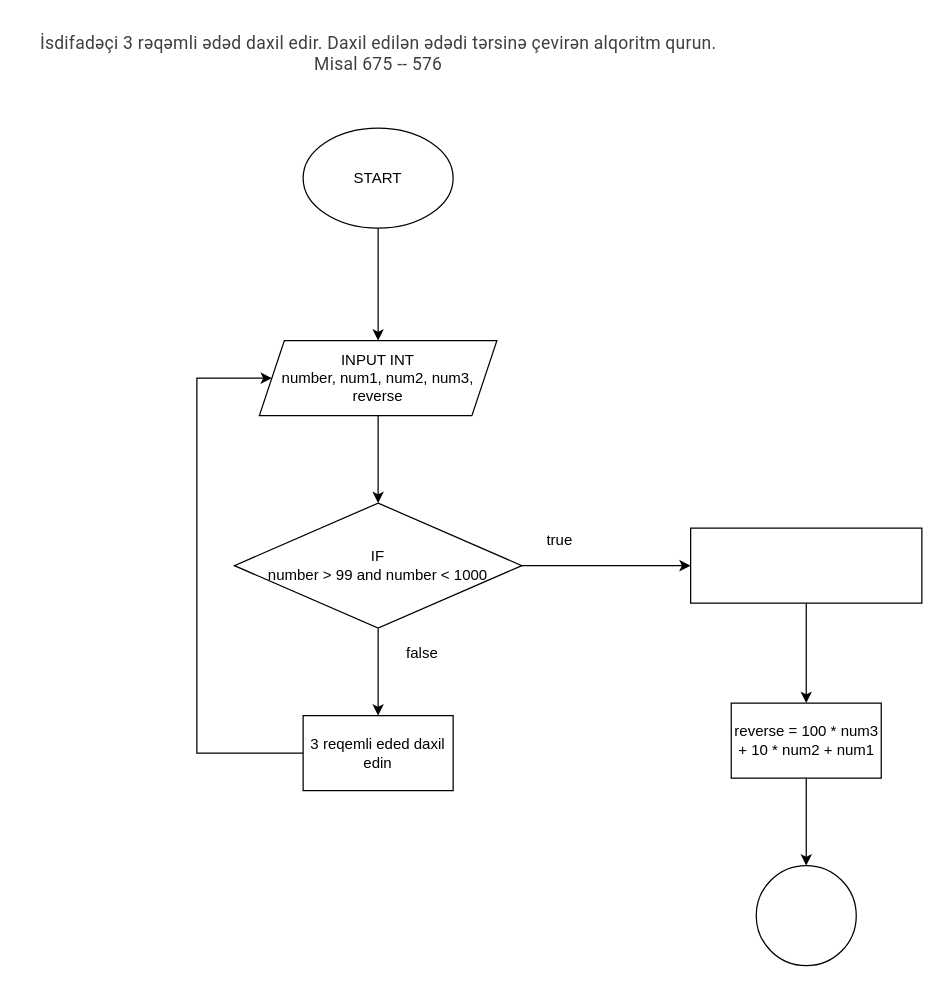
The diagram is 944 pixels wide and 988 high, and some of its shapes have lost their labels. The centre of each missing label's shape, as x and y in pixels:
END: the point at 805,915
num1 = number / 100 num2 = (number % 100) / 10 num3 = number % 10: the point at 805,565
